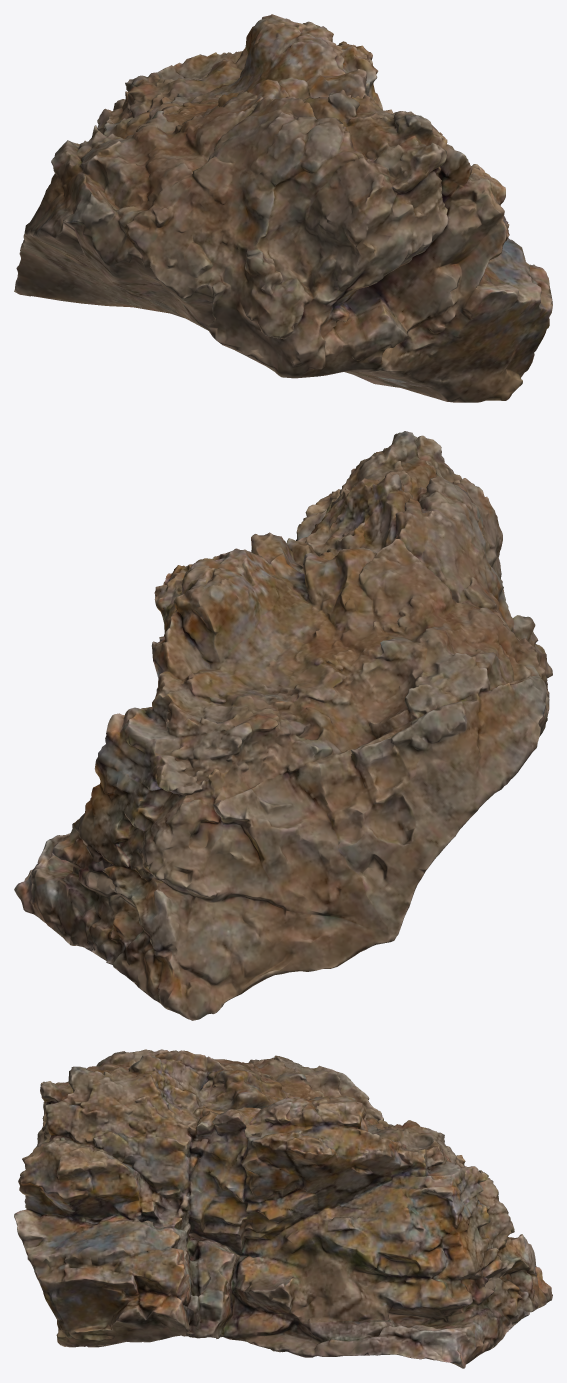
File: boulder_01.glb
3 renders of one model, top to bottom at view 1: azimuth 30°, elevation 25°; view 2: azimuth 150°, elevation 25°; view 3: azimuth 270°, elevation 25°, orthographic. The views are drawn at different scales.
Visible parts, largest first — view 1: boulder_01; view 2: boulder_01; view 3: boulder_01.
Boxes of the visible parts, bbox=[...] form: boulder_01: bbox=[14, 14, 552, 402]; boulder_01: bbox=[14, 431, 552, 1020]; boulder_01: bbox=[14, 1049, 552, 1368].
Size of the model in its own units: 1.27 by 1 by 1.83.
1 material, 1 textured.
